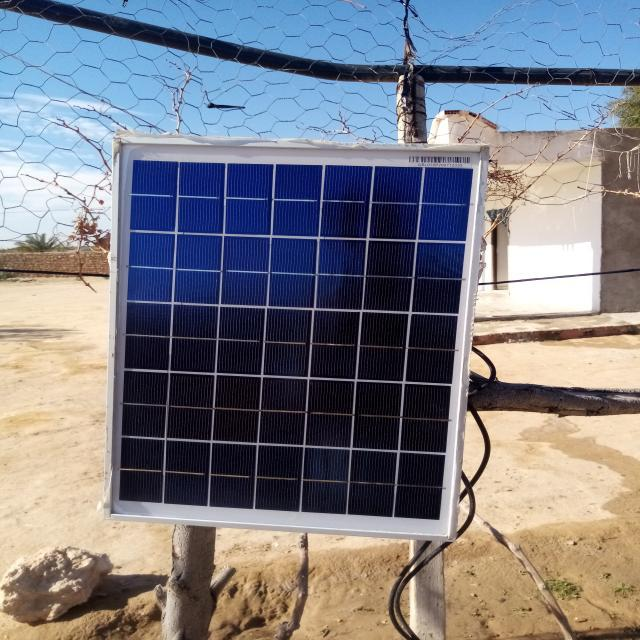no faulty: (111, 140, 488, 542)
